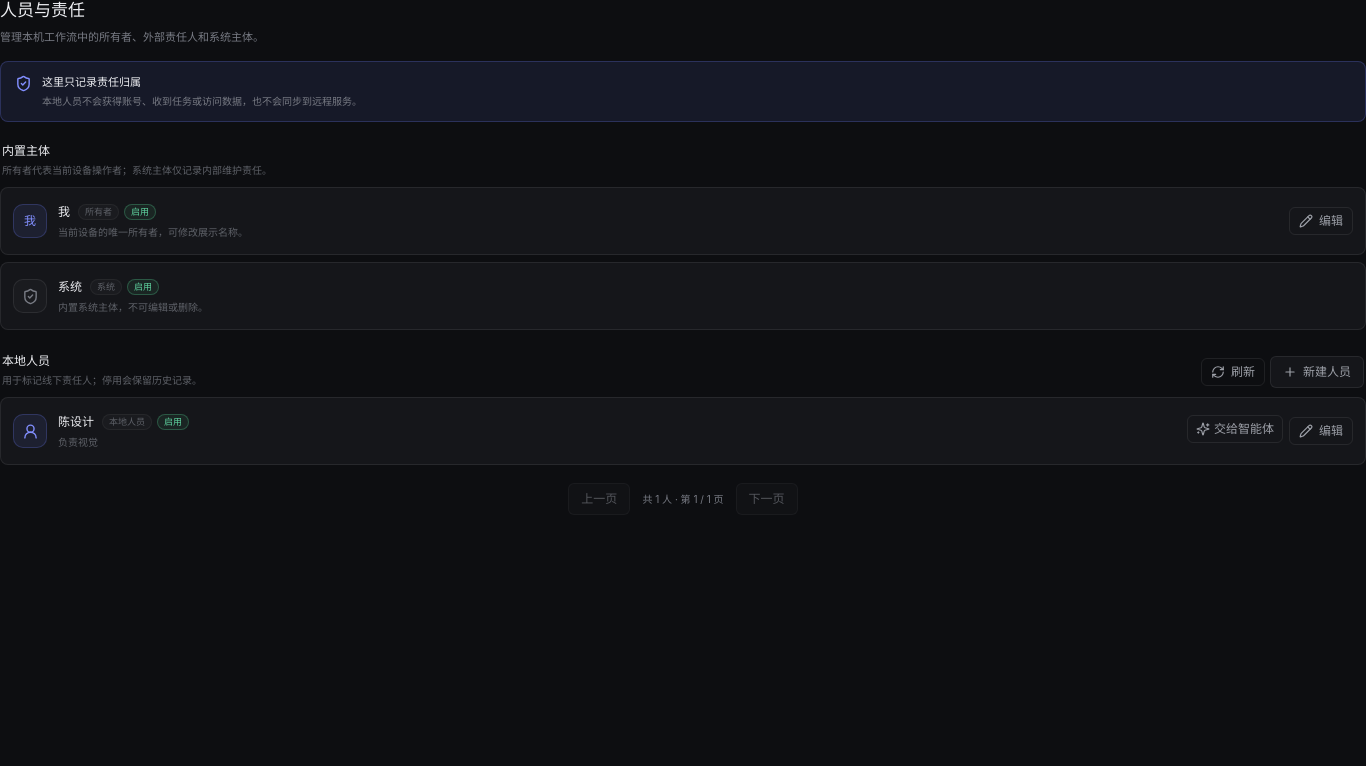
Test: ActorSettings › reloads a conflicted editor by id, preserves its draft, and adopts the new version
Expected: the text "陈设计" is shown, [58,413,94,431]
Click the button with aria-label "编辑陈设计" at (1321, 431), box [1289,417,1353,445]
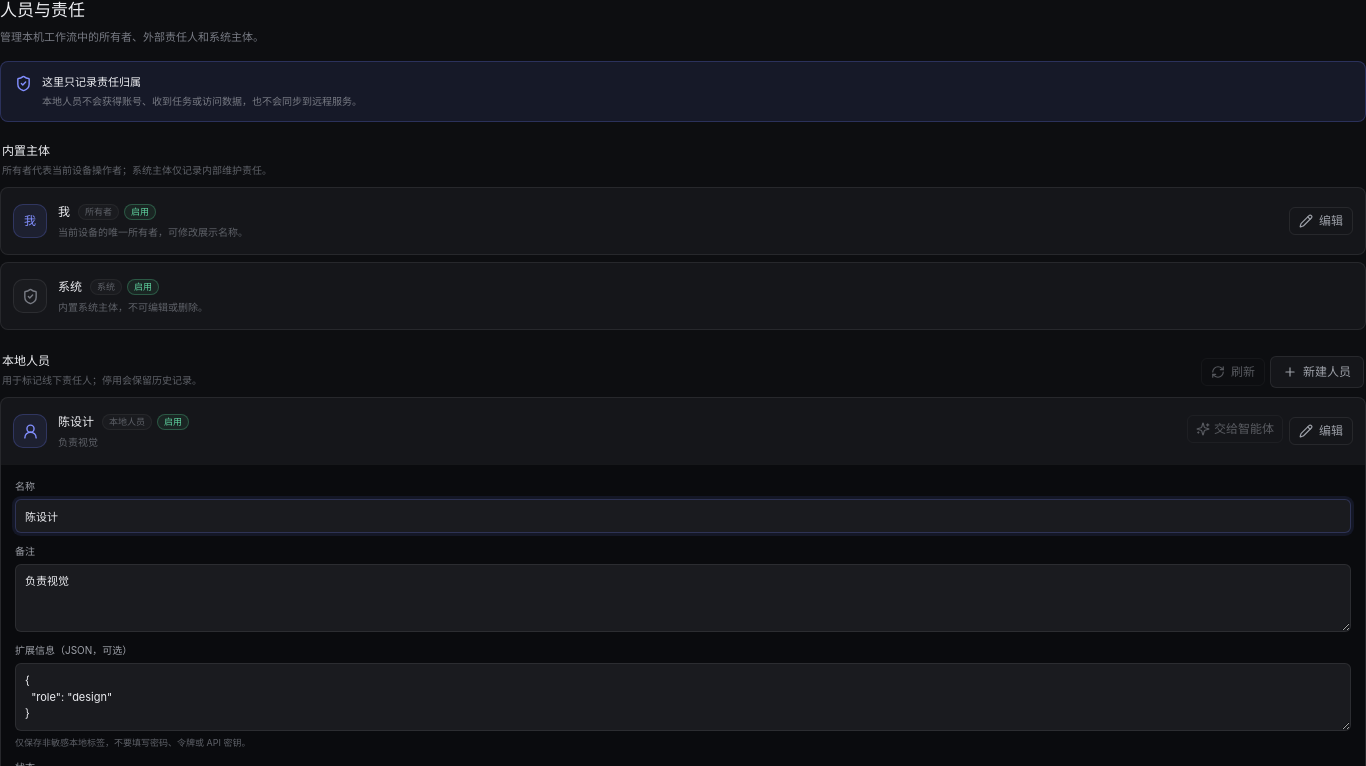
Replace the text in the field named "编辑陈设计的名称" with "我的未保存名称" at (683, 516), box [15,499,1351,533]
(page scrolled)
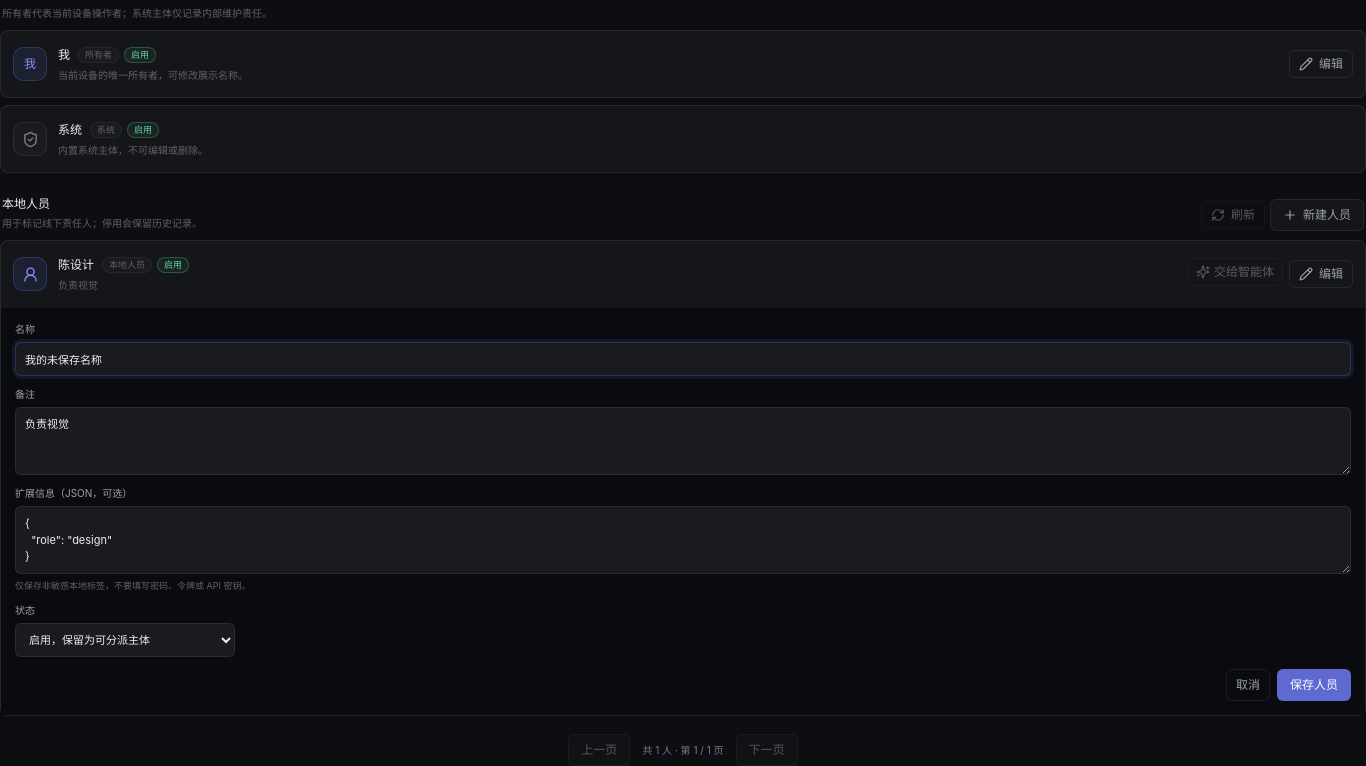
Click the button "保存人员" at (1314, 685), box [1277,669,1351,701]
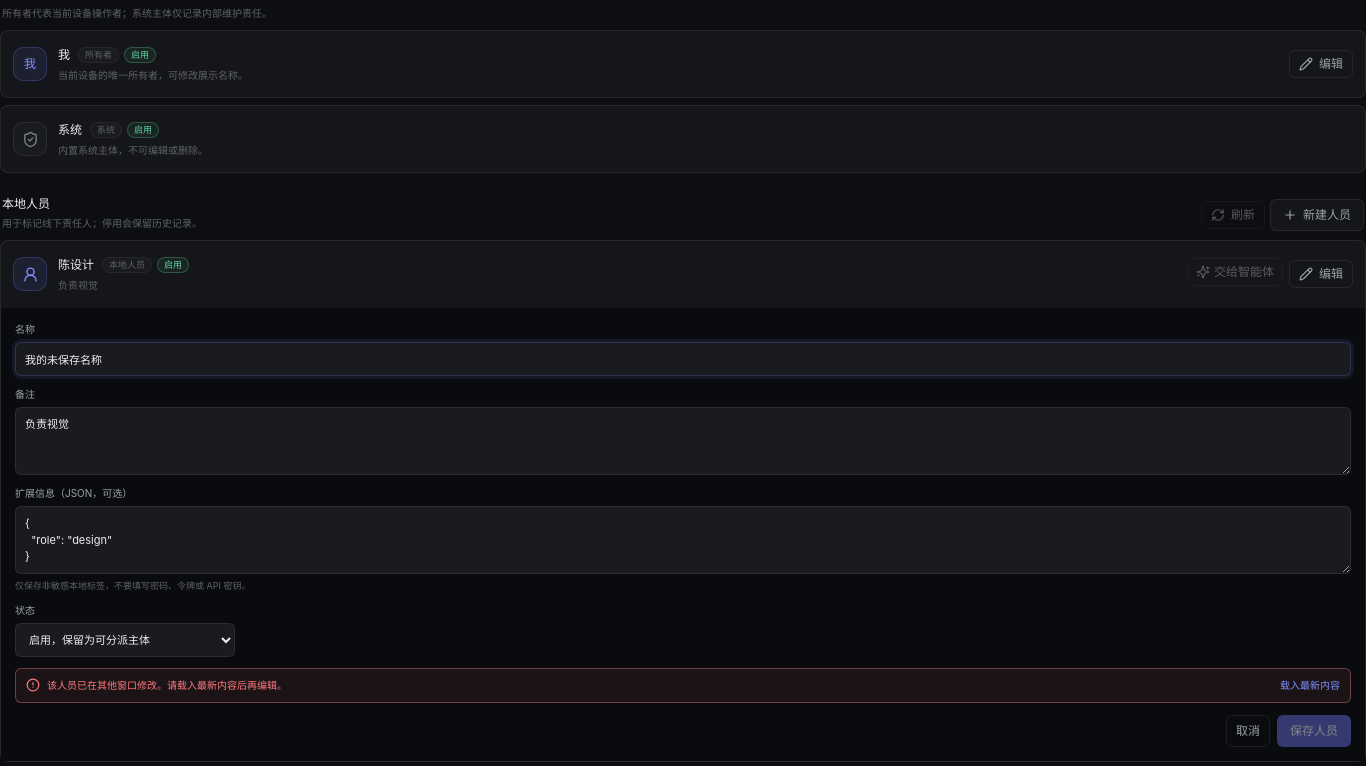
Expected: the text "该人员已在其他窗口修改。请载入最新内容后再编辑。" is shown, [47,679,287,691]
Expected: the button "保存人员" is disabled, [1277,714,1351,746]
Click the button "载入最新内容" at (1310, 685), box [1280,678,1340,692]
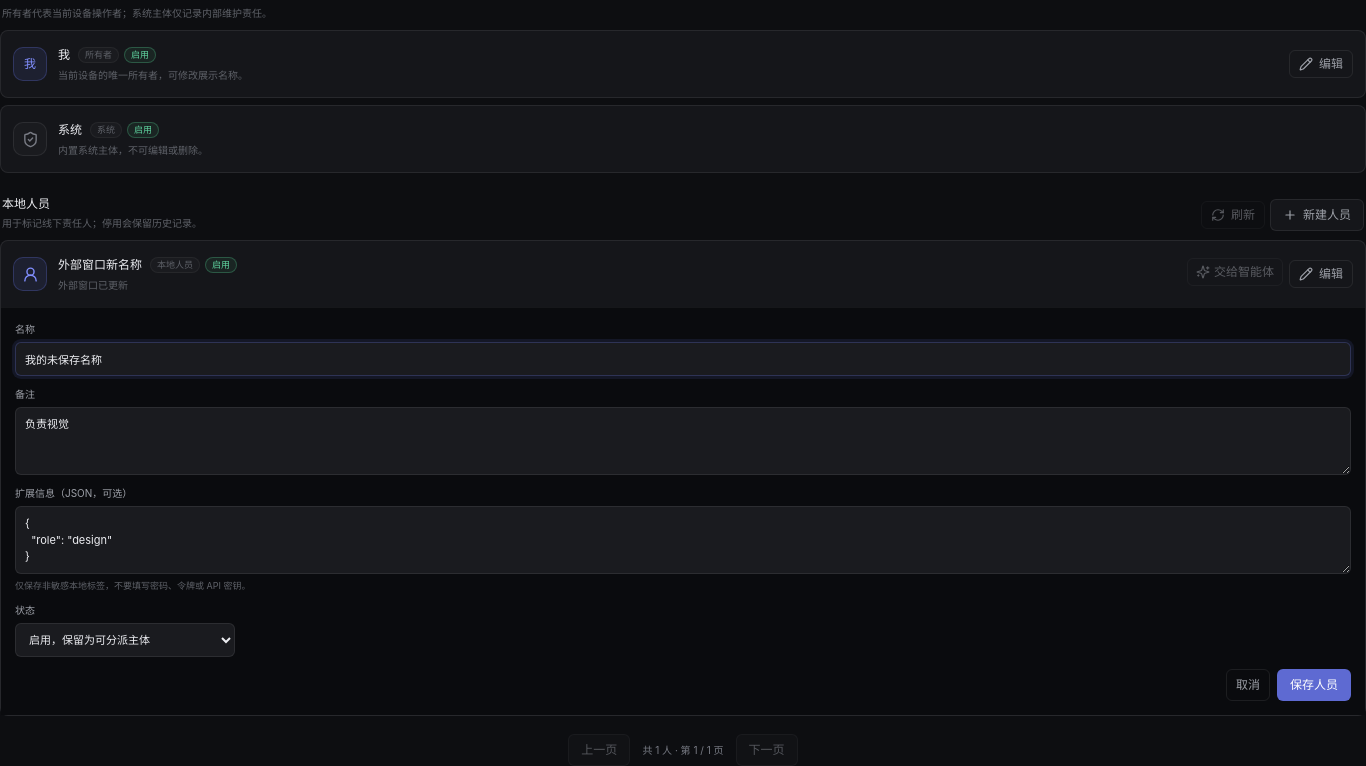
Expected: the button with aria-label "编辑外部窗口新名称" is shown, [1289,260,1353,288]
Expected: the text box named "编辑外部窗口新名称的备注" holds "负责视觉", [15,407,1351,475]
Expected: the button "保存人员" is enabled
Click the button "保存人员" at (1314, 685), box [1277,669,1351,701]
(page scrolled)
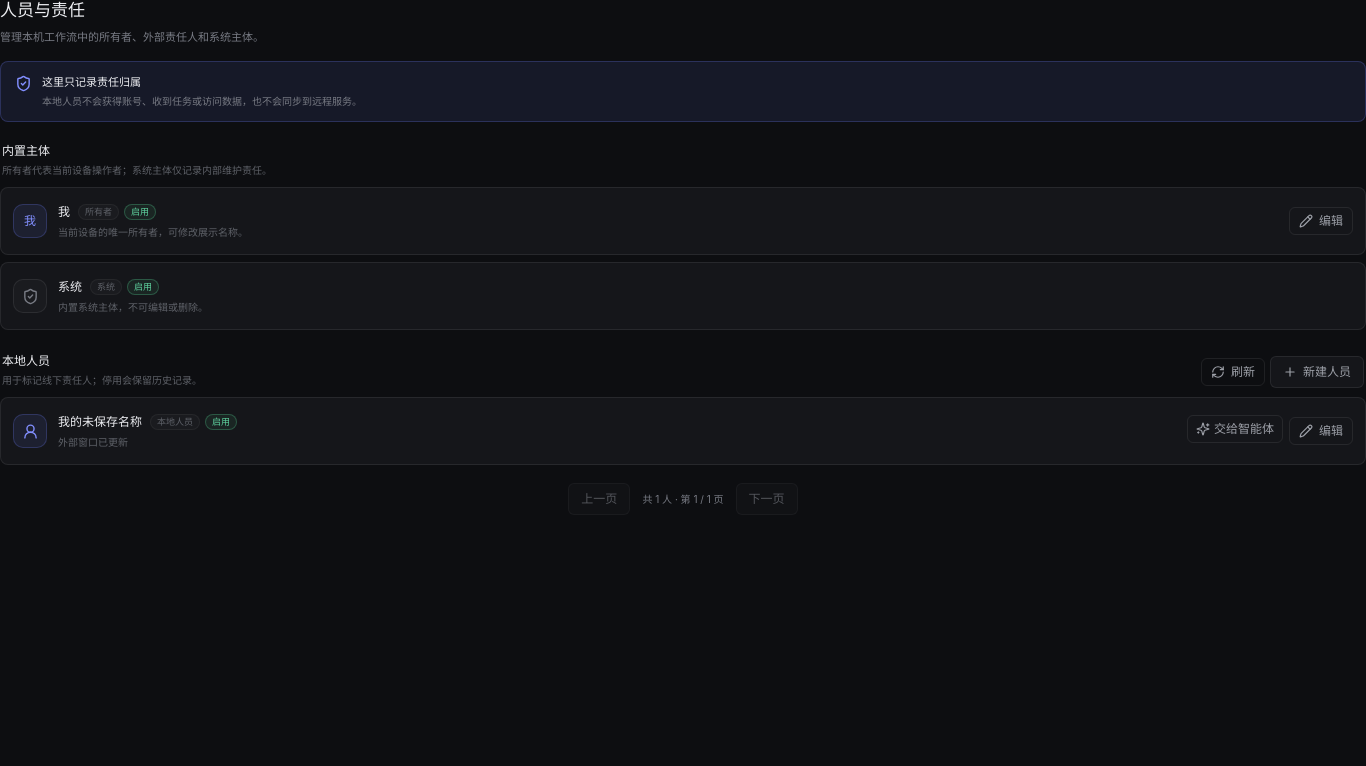
Expected: the text "我的未保存名称" is shown, [58,413,142,431]
